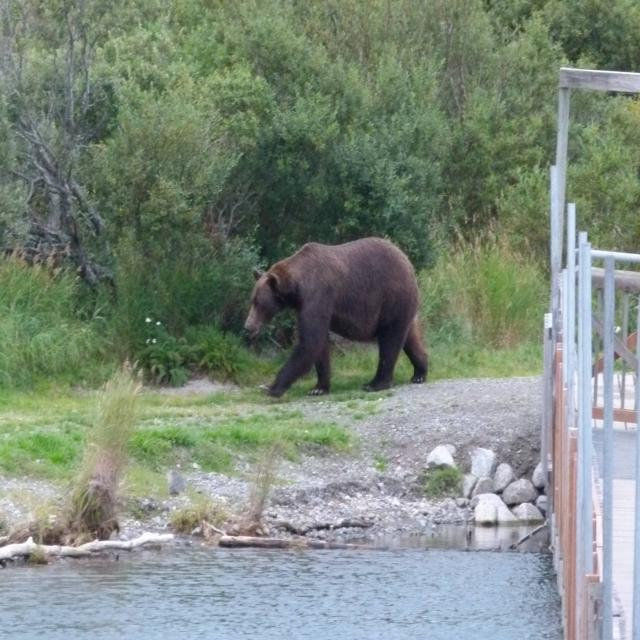bear face: (242, 239, 429, 391)
